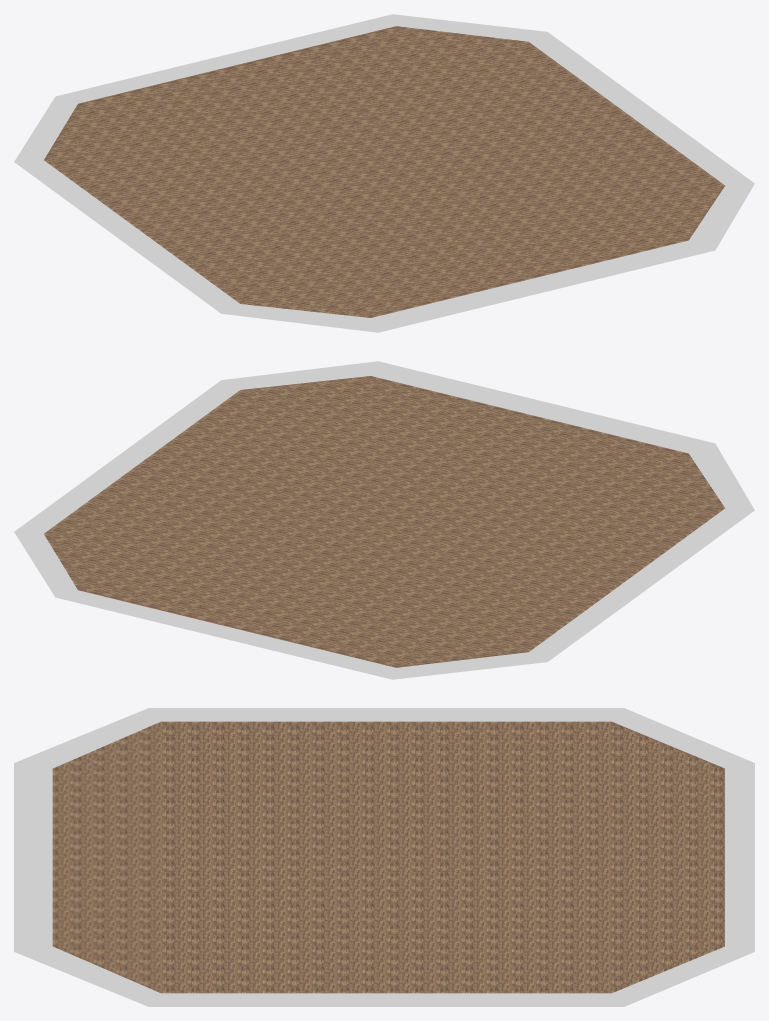
Rendered from floor.fbx.
The picture shows the model from 3 angles, top to bottom: view 1: azimuth 30°, elevation 25°; view 2: azimuth 150°, elevation 25°; view 3: azimuth 270°, elevation 25°; orthographic projection. The views are drawn at different scales.
Visible parts, largest first — view 1: floor; view 2: floor; view 3: floor.
Part boxes in pixels (left/top/right/bottom): floor: left=14, top=14, right=754, bottom=332; floor: left=14, top=361, right=754, bottom=679; floor: left=14, top=708, right=754, bottom=1006.
Bounding box in the file's own units: 10449 × 0 × 10949.
2 materials, 1 textured.
